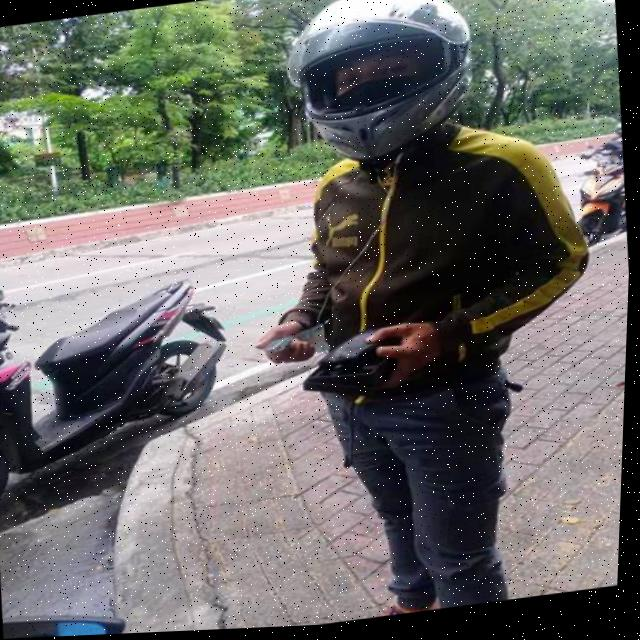helmet: (267, 0, 493, 190)
